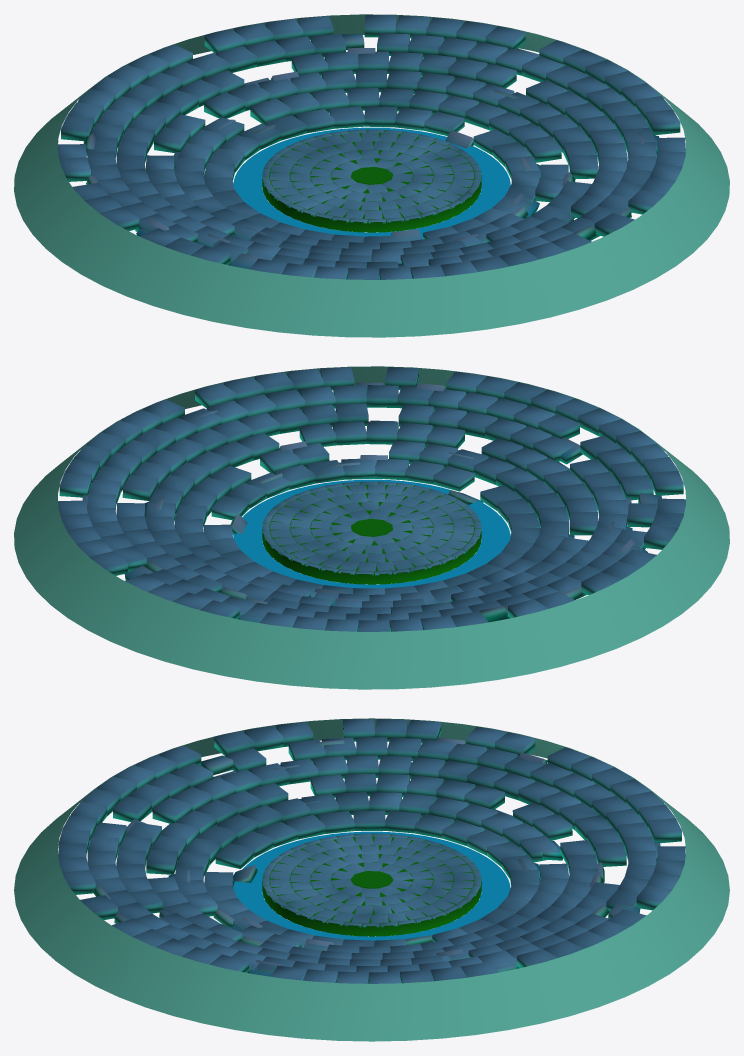
Rendered from choir_amphitheatre.glb.
3 renders of one model, top to bottom at view 1: azimuth 30°, elevation 25°; view 2: azimuth 150°, elevation 25°; view 3: azimuth 270°, elevation 25°, orthographic.
Parts seen in each view (by area): view 1: choir_amphitheatre; view 2: choir_amphitheatre; view 3: choir_amphitheatre.
Part boxes in pixels (bbox=[...]): choir_amphitheatre: bbox=[14, 14, 729, 337]; choir_amphitheatre: bbox=[14, 366, 729, 689]; choir_amphitheatre: bbox=[14, 718, 729, 1041].
Size of what is drawn, in the model's own units: 49 by 3.76 by 49.
